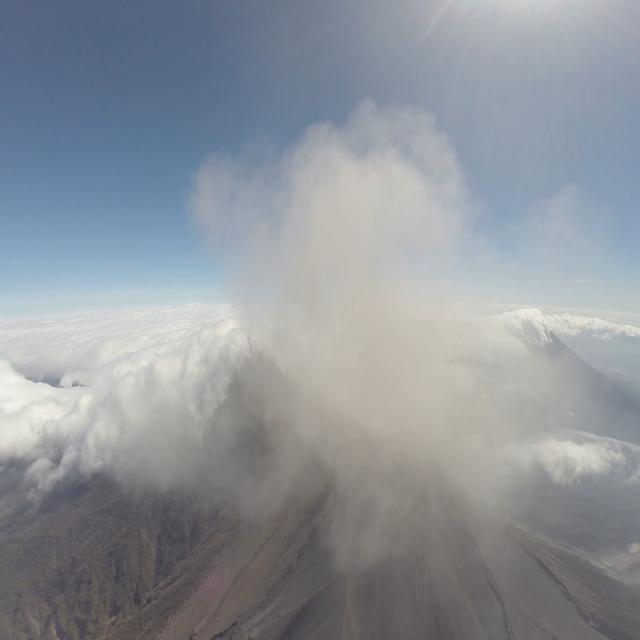Plume: (180, 82, 597, 572)
